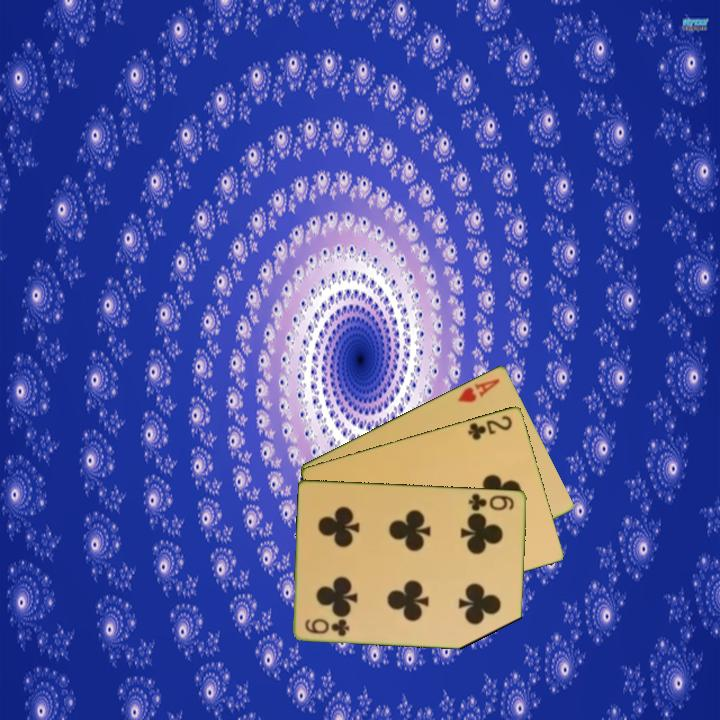2c: (464, 411, 515, 442)
6c: (465, 490, 517, 514), (301, 615, 352, 639)
Ah: (454, 374, 503, 405)
